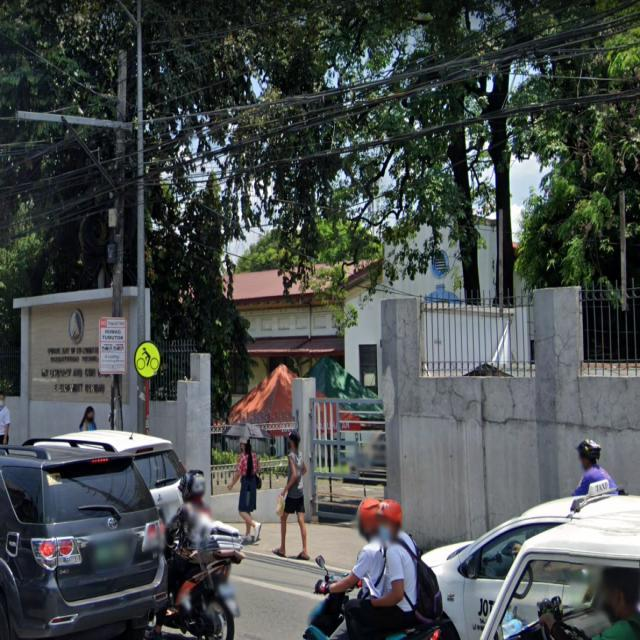bike lane: (132, 335, 167, 388)
